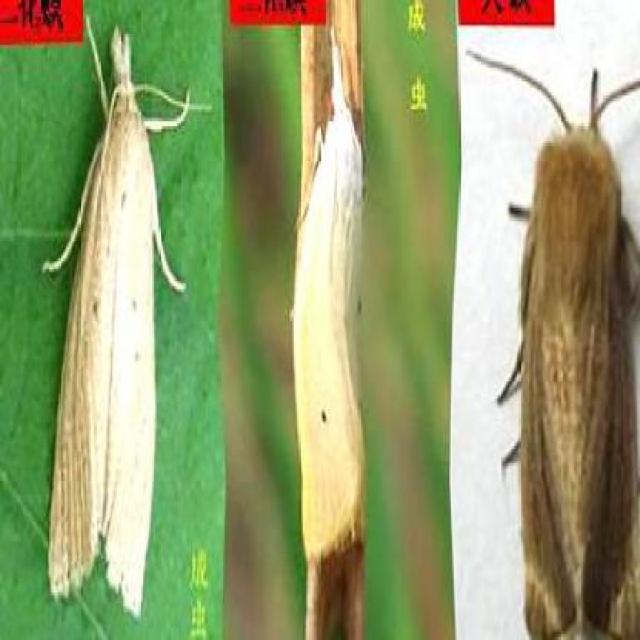stem-borer: (38, 20, 213, 626), (464, 41, 640, 640), (291, 32, 369, 560)
